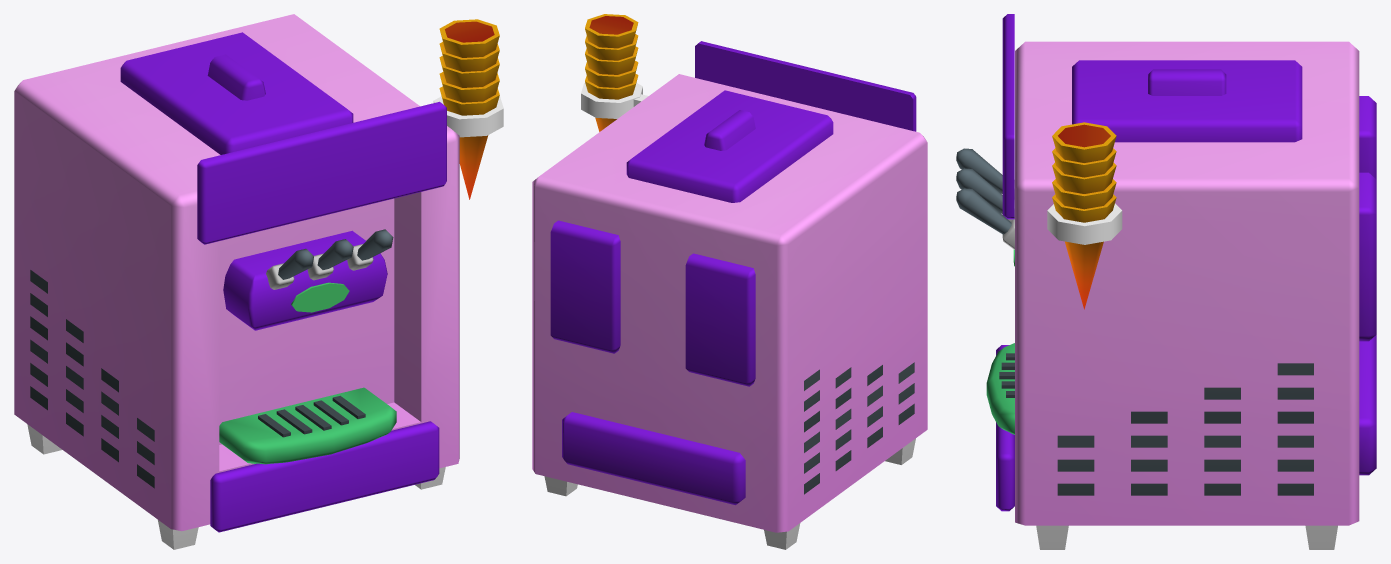
The model's file is Decor_Maylamkem_03.fbx.
3 views of the same model, side by side, from view 1: azimuth 30°, elevation 25°; view 2: azimuth 150°, elevation 25°; view 3: azimuth 270°, elevation 25° (orthographic). The views are drawn at different scales.
Visible parts, largest first — view 1: Decor_Maylamkem_03; view 2: Decor_Maylamkem_03; view 3: Decor_Maylamkem_03.
Boxes of the visible parts, x1,y1,x2,y2 form: Decor_Maylamkem_03: [14, 14, 503, 549]; Decor_Maylamkem_03: [532, 14, 927, 549]; Decor_Maylamkem_03: [956, 14, 1376, 549].
Size of the model in its own units: 121 by 137 by 119.
